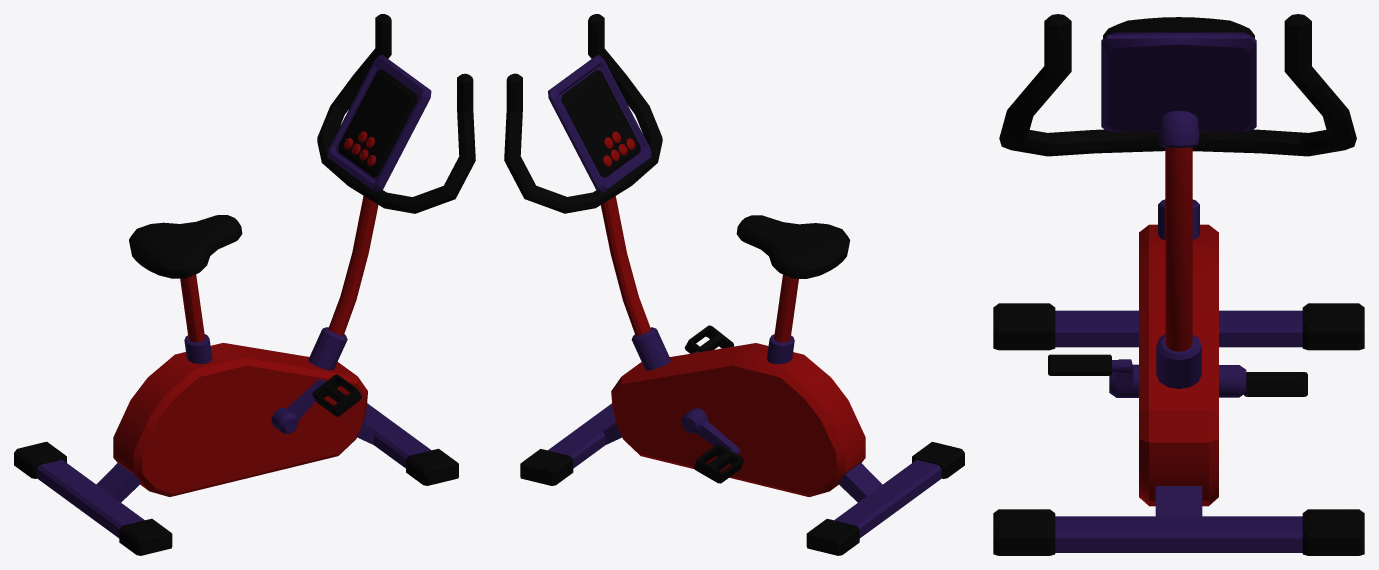
Rendered from Exercise bike.FBX.
3 renders of one model, left to right at view 1: azimuth 30°, elevation 25°; view 2: azimuth 150°, elevation 25°; view 3: azimuth 270°, elevation 25°, orthographic. The views are drawn at different scales.
Parts seen in each view (by area): view 1: Exercise bike; view 2: Exercise bike; view 3: Exercise bike.
Part boxes in pixels (<box>): Exercise bike: <box>14,14,475,555</box>; Exercise bike: <box>504,14,964,555</box>; Exercise bike: <box>993,14,1364,555</box>.
Size of the model in its own units: 1042 by 641 by 1062.
